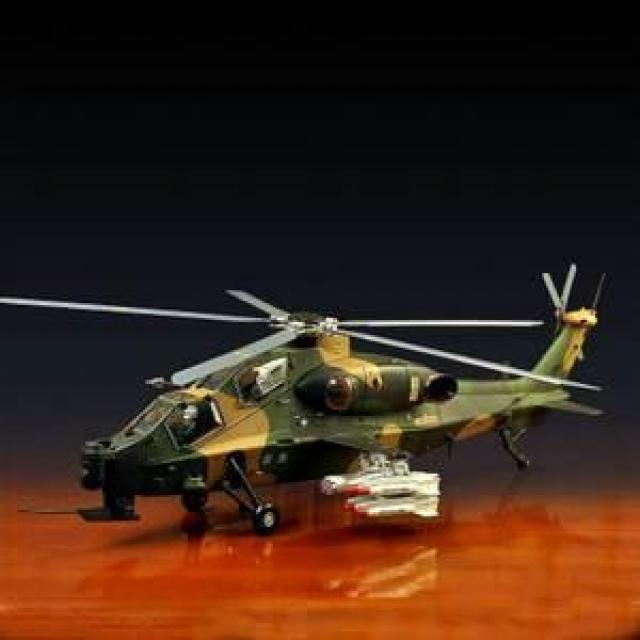MIL_HELO: (0, 268, 629, 558)
